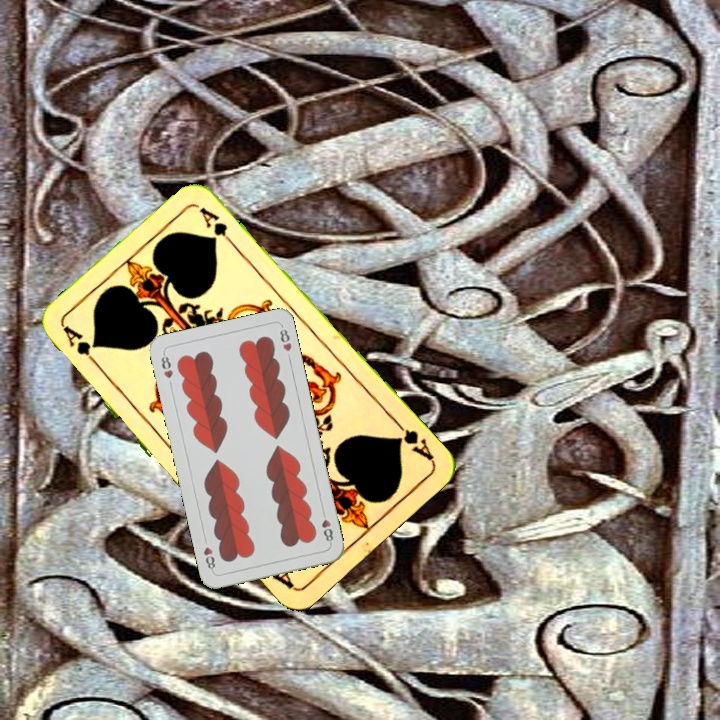GA: (390, 415, 437, 463), (59, 322, 104, 371)
H8: (317, 506, 336, 547), (157, 349, 175, 381)
